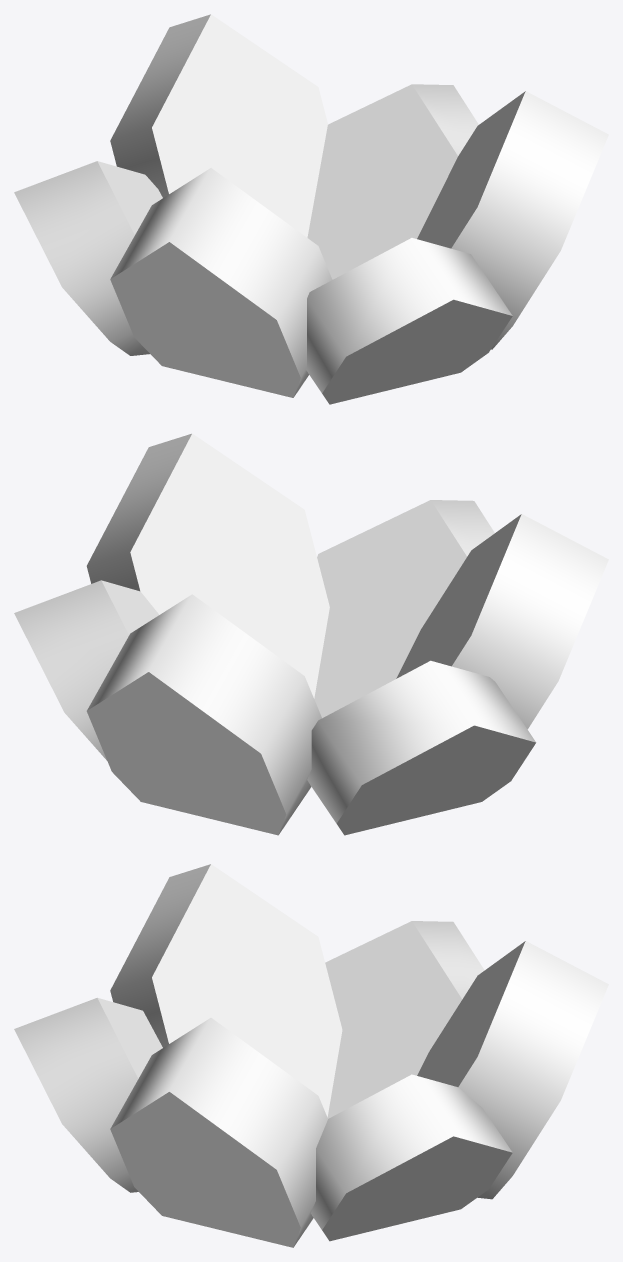
The model's file is grass-plant.glb.
3 renders of one model, top to bottom at view 1: azimuth 30°, elevation 25°; view 2: azimuth 150°, elevation 25°; view 3: azimuth 270°, elevation 25°, orthographic. The views are drawn at different scales.
Parts seen in each view (by area): view 1: grass-plant; view 2: grass-plant; view 3: grass-plant.
Part boxes in pixels (x1=…): grass-plant: x1=14, y1=14, x2=608, y2=404; grass-plant: x1=14, y1=433, x2=608, y2=835; grass-plant: x1=14, y1=864, x2=608, y2=1247.
Bounding box in the file's own units: 1.11 × 0.5197 × 1.24.
1 material, 1 textured.
